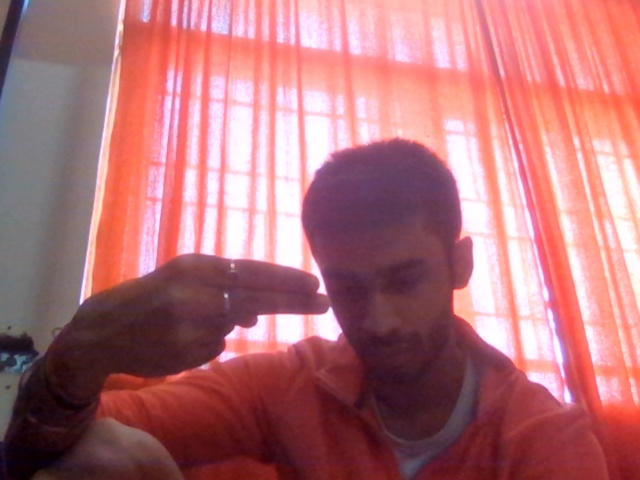H: (56, 227, 336, 406)
